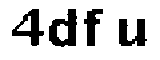4: (8, 5, 45, 50)
d: (46, 3, 80, 50)
f: (83, 4, 108, 52)
u: (116, 13, 151, 53)
